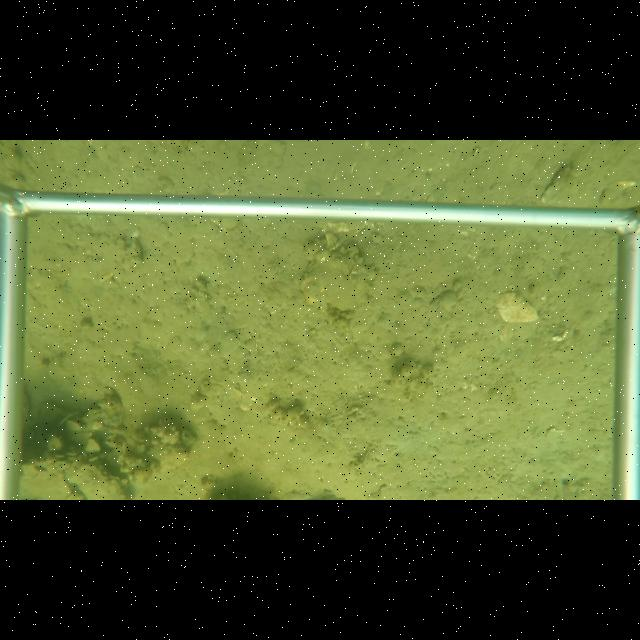Oyster-Closed: (64, 462, 131, 500), (14, 462, 72, 500), (494, 292, 540, 323)
